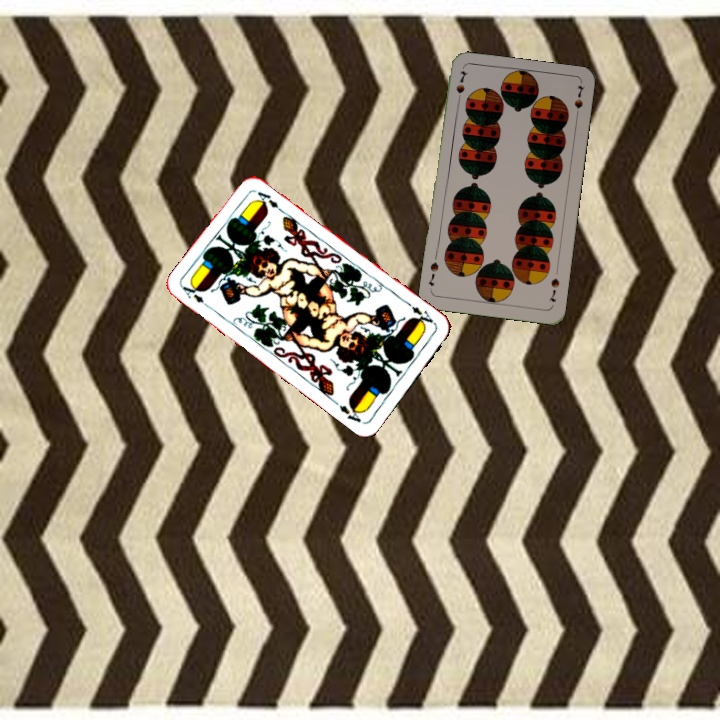EA: (179, 279, 214, 311), (403, 298, 438, 329)
S7: (452, 67, 470, 106), (545, 274, 562, 305)
